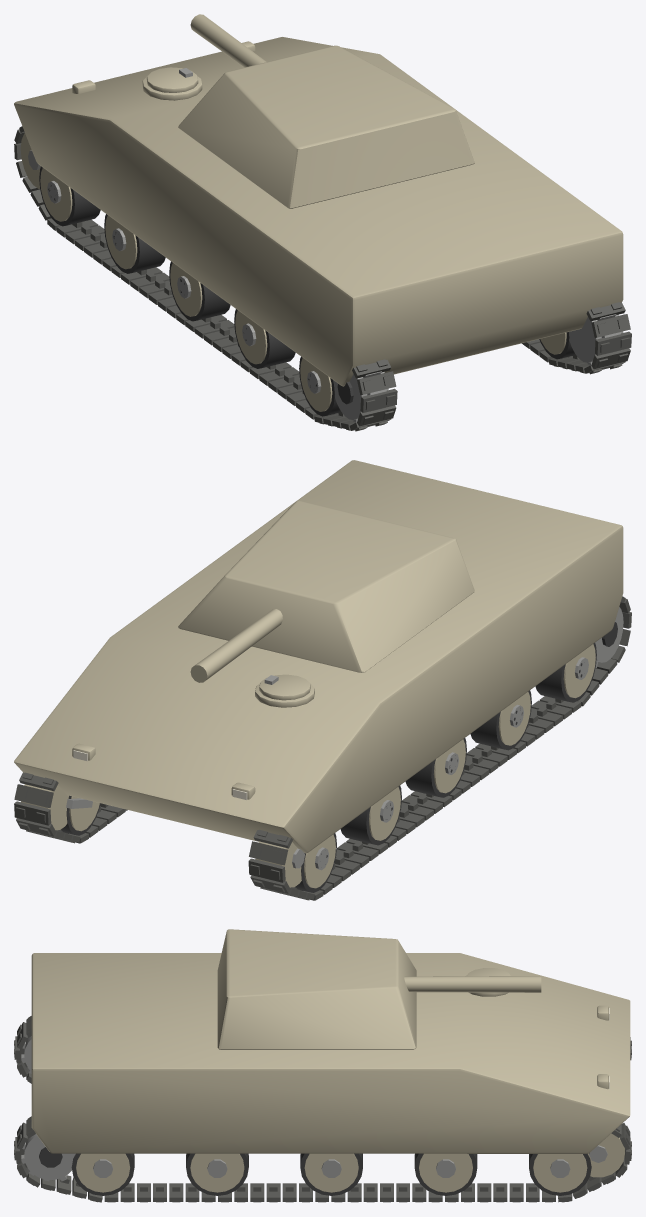
The model's file is rus_mor_nonas.glb.
3 views of the same model, one above another, from view 1: azimuth 30°, elevation 25°; view 2: azimuth 150°, elevation 25°; view 3: azimuth 270°, elevation 25° (orthographic). The views are drawn at different scales.
Visible parts, largest first — view 1: body, turret, barrel; view 2: body, turret, barrel; view 3: body, turret, barrel.
Part boxes in pixels (<box>): body: <box>14,37,631,431</box>; turret: <box>178,45,474,208</box>; barrel: <box>190,14,266,67</box>; body: <box>14,460,631,900</box>; turret: <box>178,500,474,672</box>; barrel: <box>190,609,282,682</box>; body: <box>14,953,631,1202</box>; turret: <box>217,929,416,1049</box>; barrel: <box>404,976,541,992</box>.
Size of the model in its own units: 2.9 by 2.12 by 6.49.
